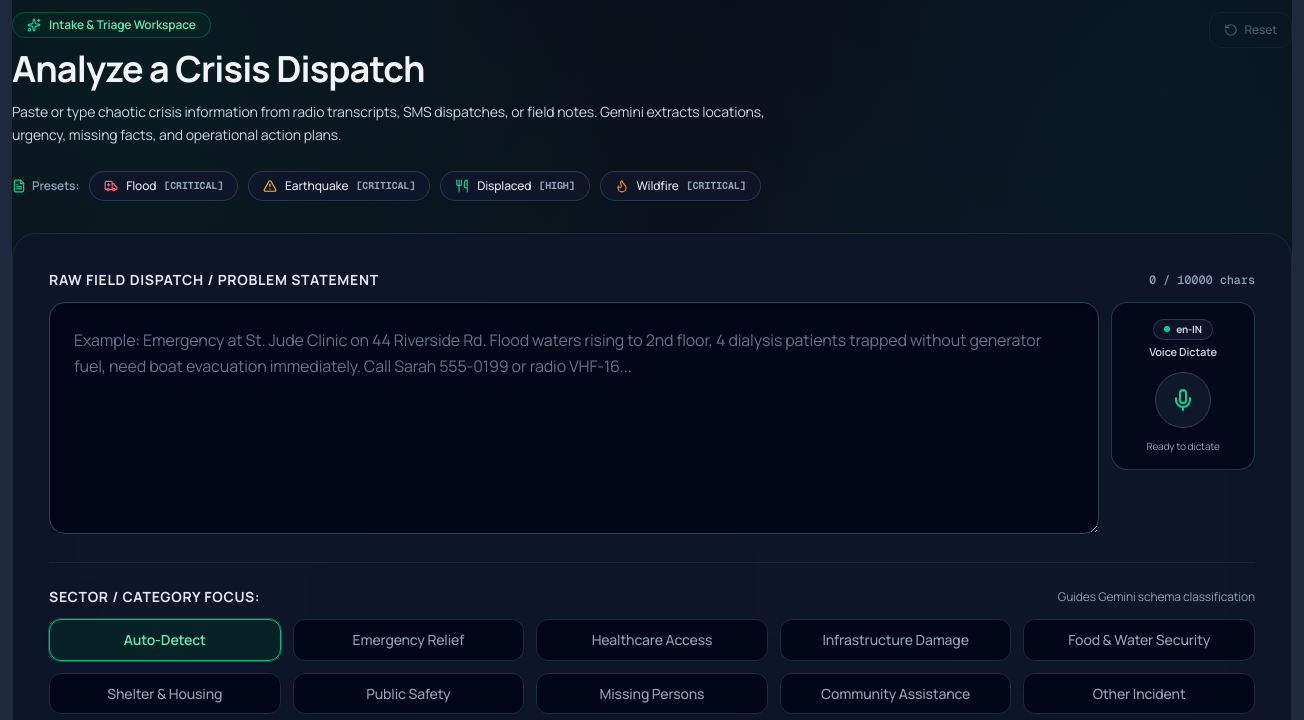
AnalyzeSection Component › resets input state when clicking Reset button
Replace the text in the text box with placeholder "Example: Emergency at St. Jude Clinic" with "Emergency dispatch test string." at (574, 418), box [49,302,1099,534]
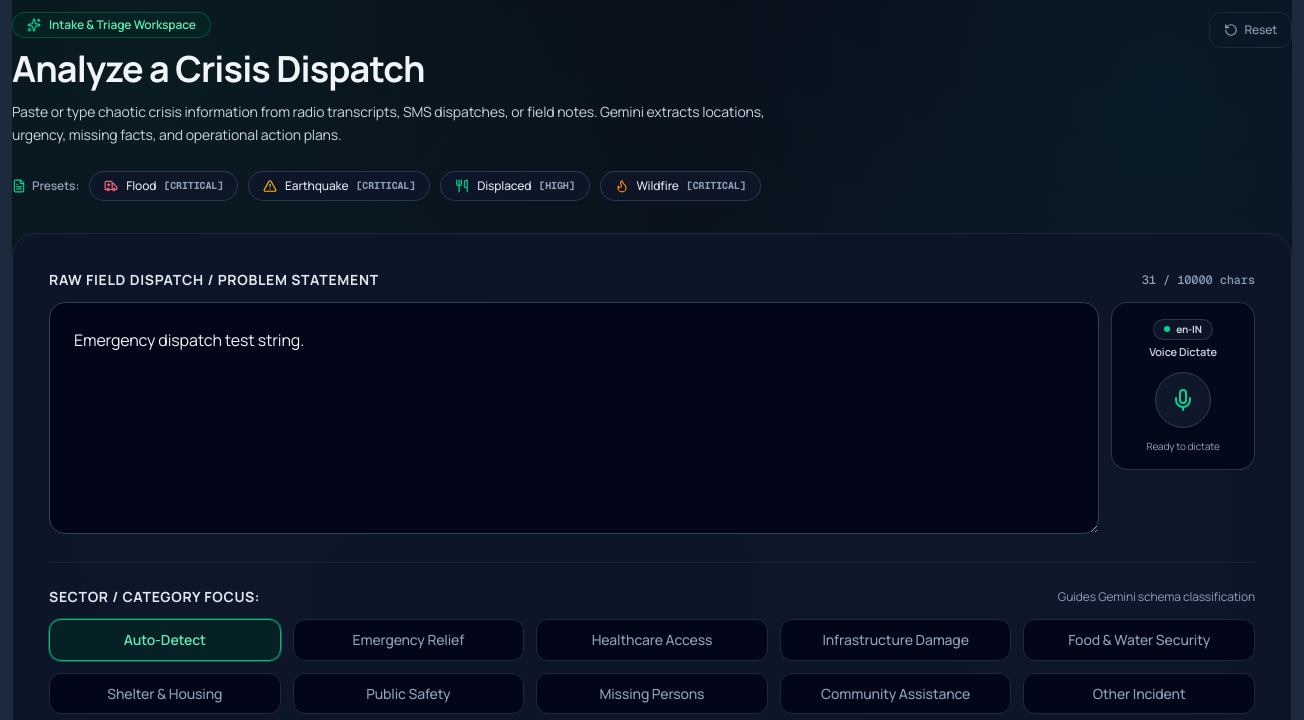
Click the button with aria-label "Clear all inputs and reset form" at (1251, 30), box [1210,12,1292,48]
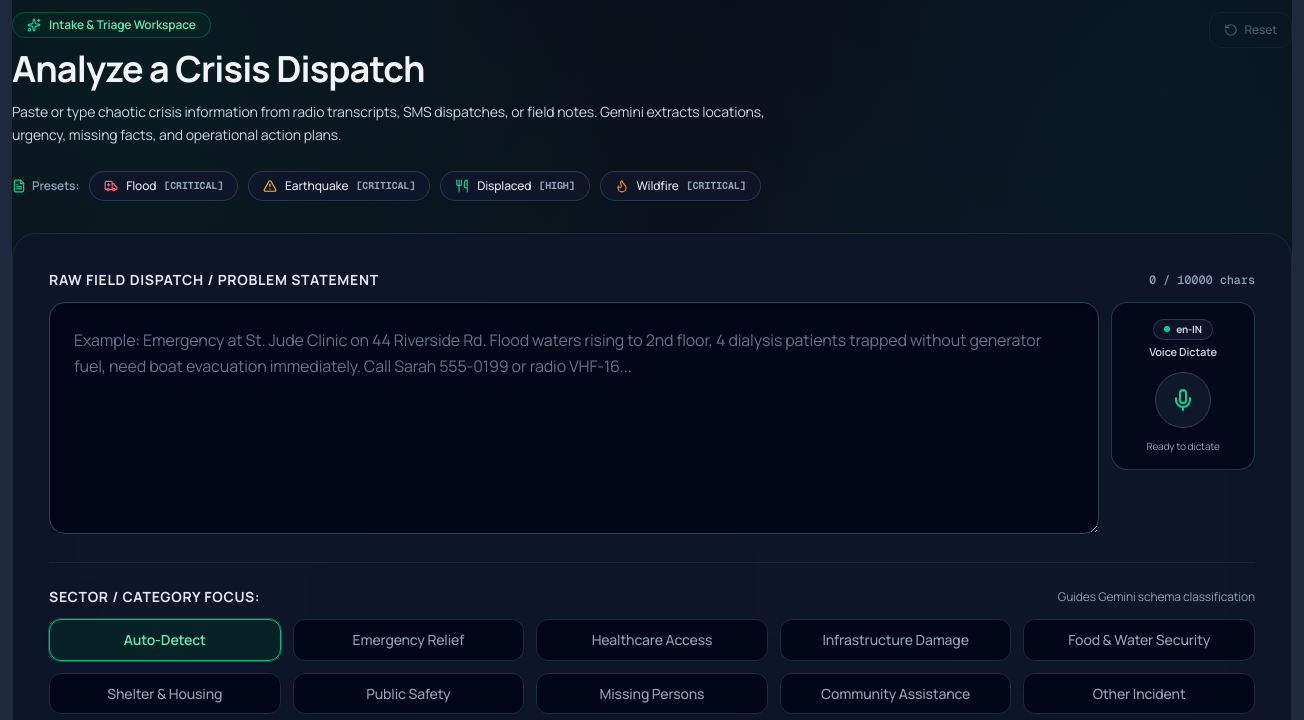
Expected: the text box with placeholder "Example: Emergency at St. Jude Clinic" is empty, [49,302,1099,534]
